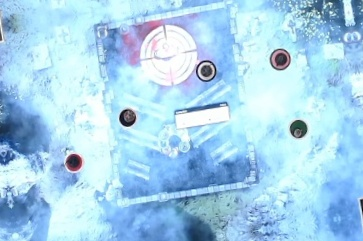black: (116, 105, 142, 132)
green: (286, 116, 313, 142)
pink_green: (266, 46, 292, 72)
red: (62, 151, 88, 177)
white: (193, 58, 219, 84)
